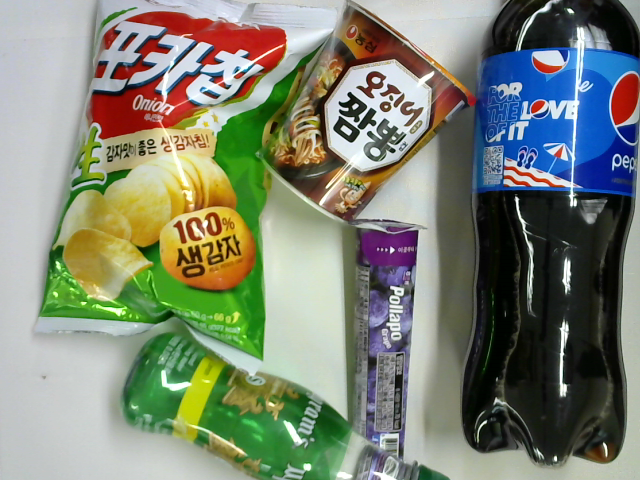Ojjam: (255, 1, 477, 226)
Pepsi_Cola_1.5L: (459, 1, 640, 471)
Pocachip_Onion: (30, 1, 337, 383)
Polapo_Grape: (348, 215, 433, 460)
Seagram_Lemon_Carbonated_Water: (122, 331, 453, 480)
